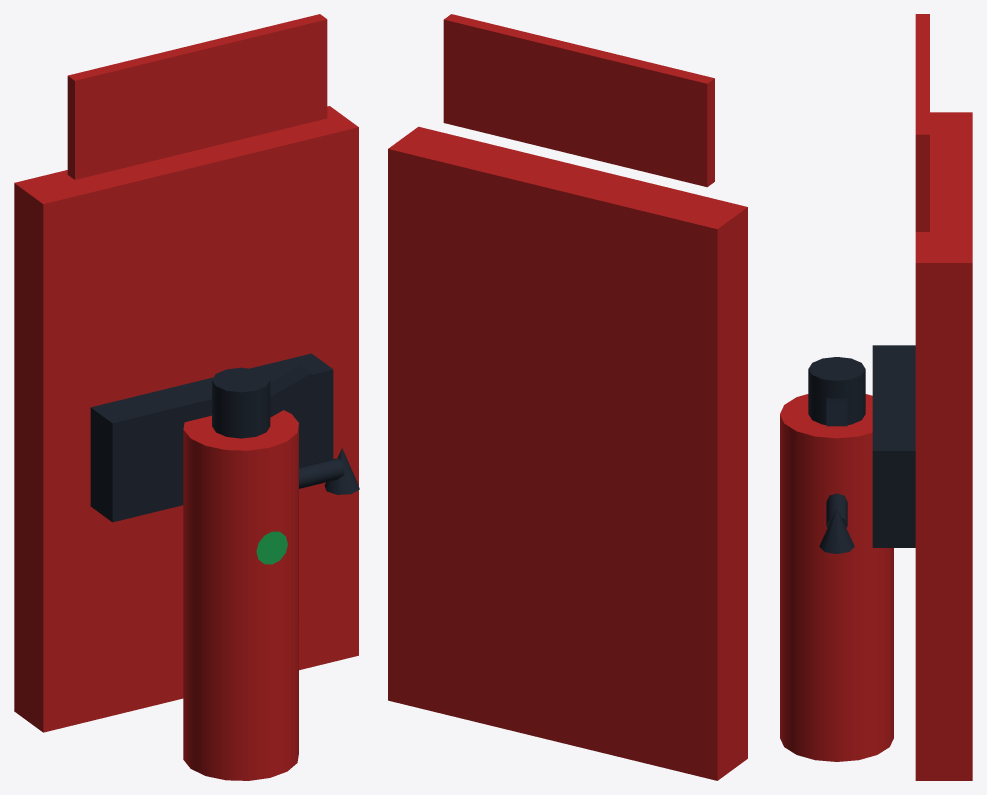
The model's file is yard-extinguisher-body-crafted-surface.glb.
3 renders of one model, left to right at view 1: azimuth 30°, elevation 25°; view 2: azimuth 150°, elevation 25°; view 3: azimuth 270°, elevation 25°, orthographic. The views are drawn at different scales.
Visible parts, largest first — view 1: Authored shadows false:false; view 2: Authored shadows false:false; view 3: Authored shadows false:false.
Boxes of the visible parts, left/top/right/bottom form: Authored shadows false:false: left=14, top=14, right=359, bottom=780; Authored shadows false:false: left=388, top=14, right=747, bottom=780; Authored shadows false:false: left=780, top=14, right=972, bottom=780.
Size of the model in its own units: 0.4878 by 1 by 0.2683.
